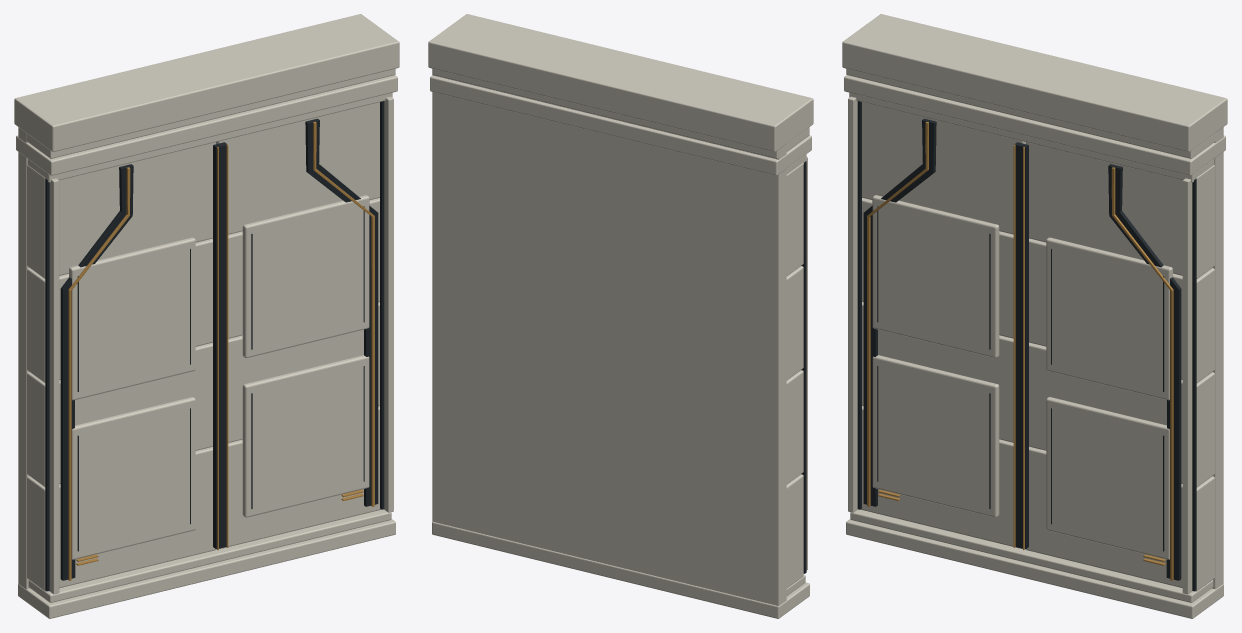
File: SM_Aurelion_KIT_Z07WallSide.fbx
3 renders of one model, left to right at view 1: azimuth 30°, elevation 25°; view 2: azimuth 150°, elevation 25°; view 3: azimuth 330°, elevation 25°, orthographic.
Parts seen in each view (by area): view 1: SM_Aurelion_KIT_Z07WallSide; view 2: SM_Aurelion_KIT_Z07WallSide; view 3: SM_Aurelion_KIT_Z07WallSide.
Boxes of the visible parts, left/top/right/bottom form: SM_Aurelion_KIT_Z07WallSide: left=14, top=14, right=399, bottom=618; SM_Aurelion_KIT_Z07WallSide: left=428, top=14, right=813, bottom=618; SM_Aurelion_KIT_Z07WallSide: left=842, top=14, right=1227, bottom=618.
Size of the model in its own units: 440 by 85 by 600.
